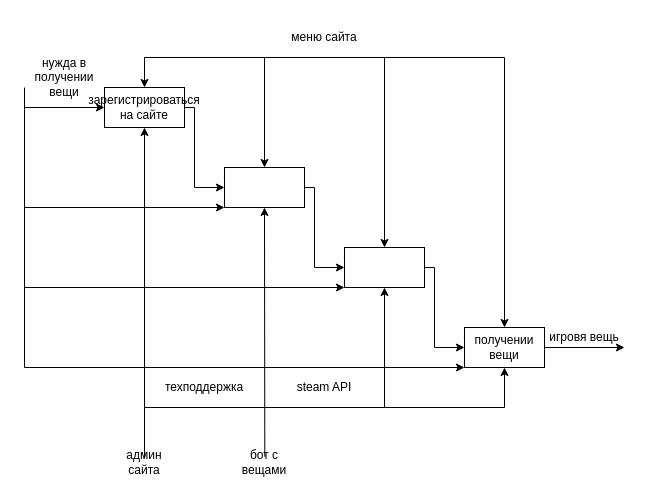
Image size: 650x494. Some labels were removed from this diagram. Here are the shapes that lost their labels. From the top down, the centre of each, then its label:
At pixel 264 187: "выбор вещи".
At pixel 384 267: "оплата".
